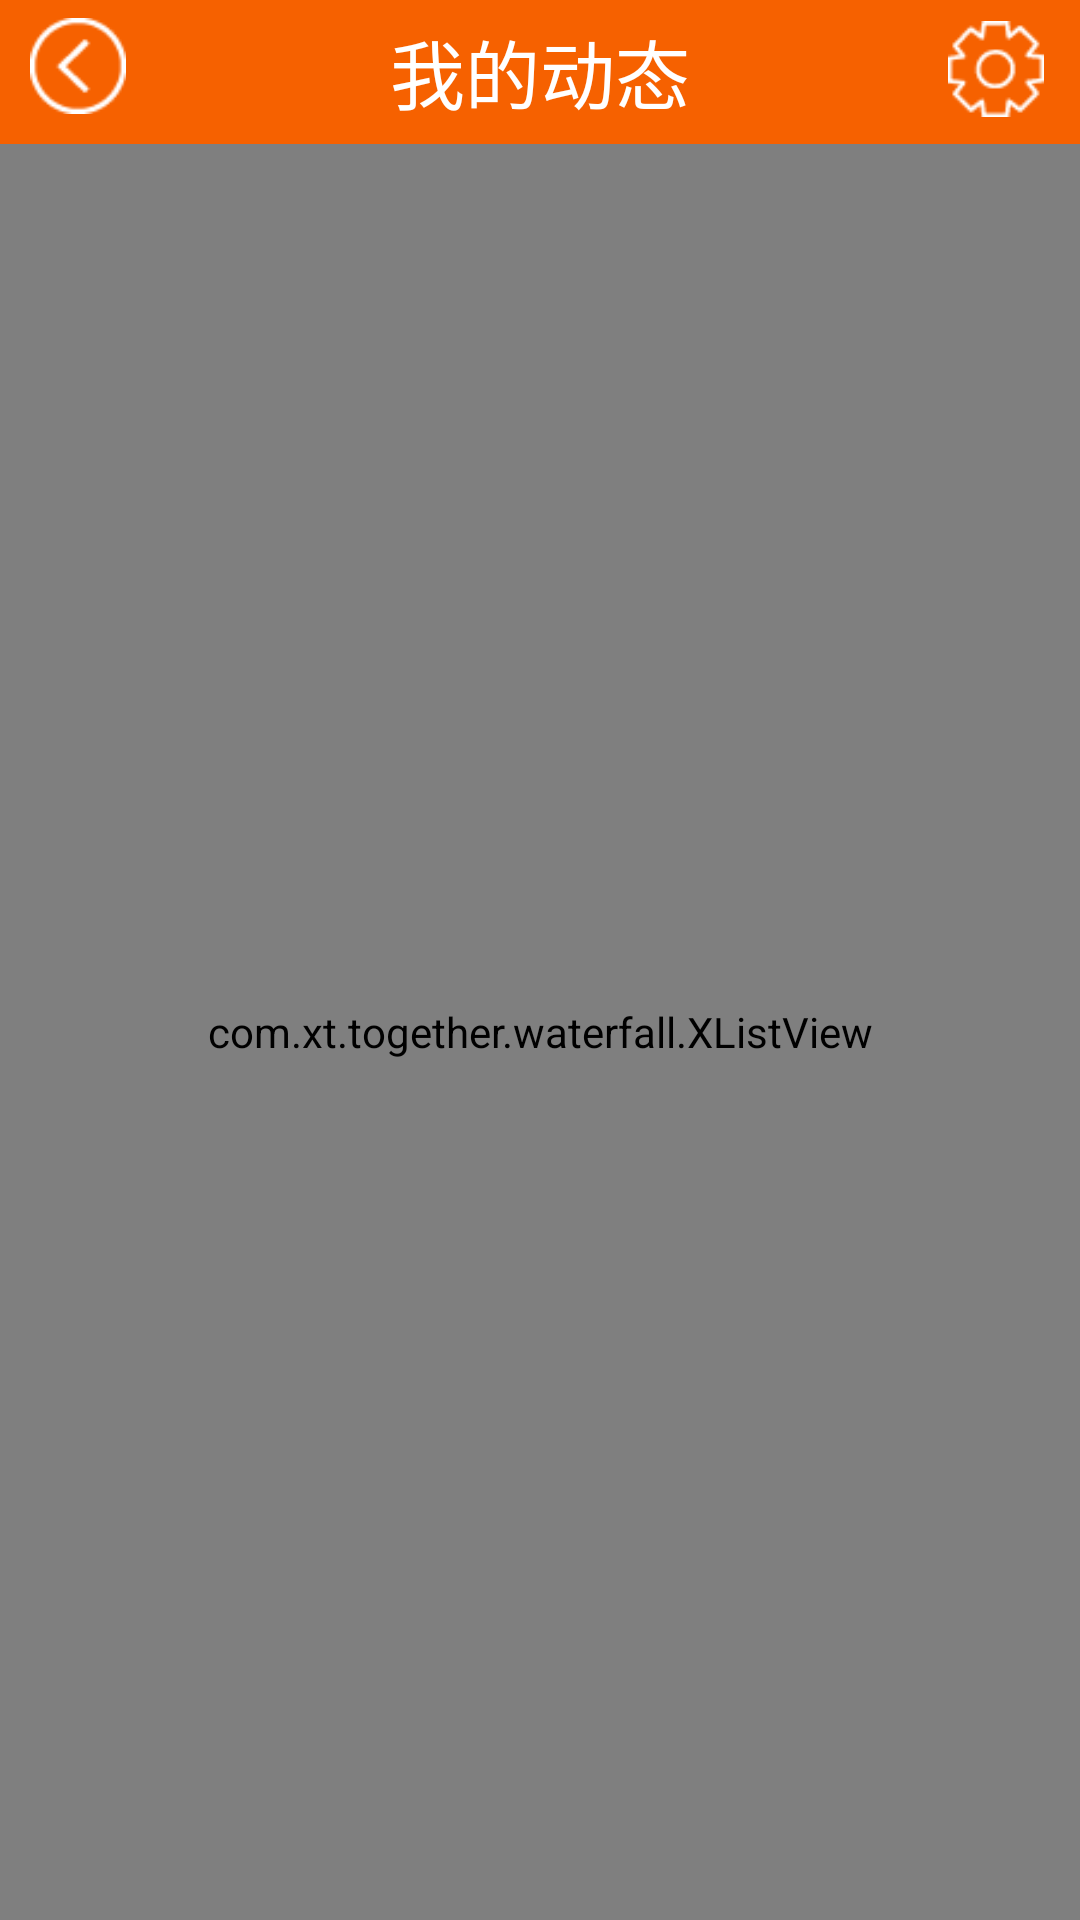

Named icons in this screenshot (1080*1920) and their bounding boxes, Rect(x1, y1, x2, y2):
title back: Rect(30, 18, 126, 114)
设置按钮: Rect(948, 21, 1044, 117)
